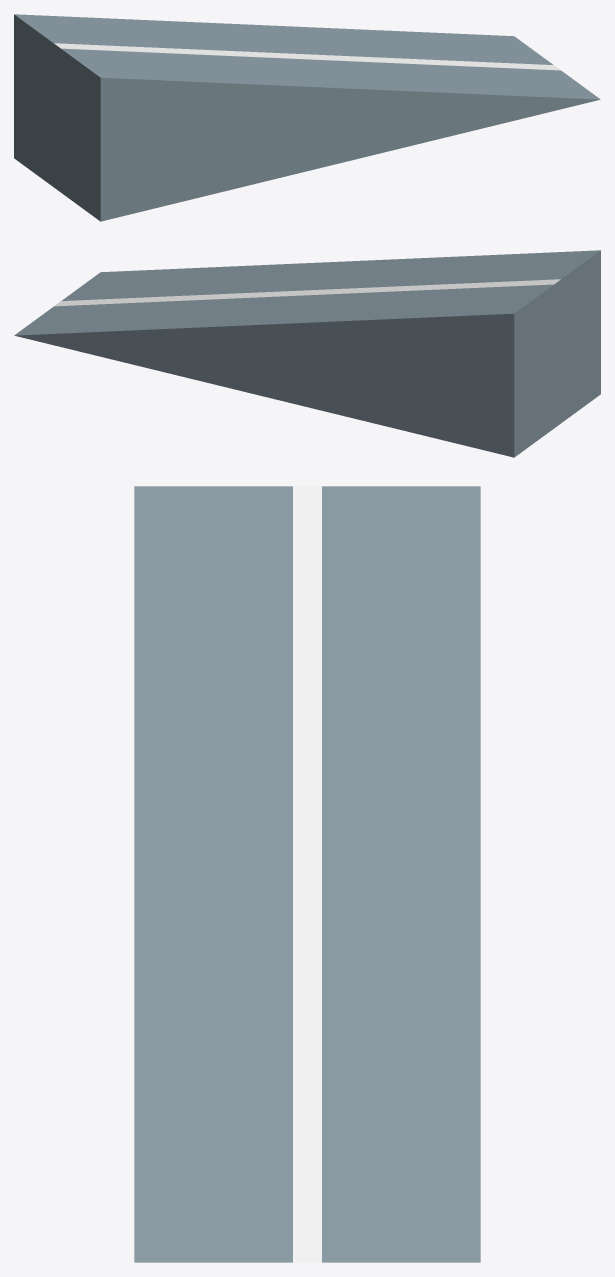
File: SlopeOut.dae
3 renders of one model, top to bottom at view 1: azimuth 30°, elevation 25°; view 2: azimuth 150°, elevation 25°; view 3: azimuth 270°, elevation 25°, orthographic. The views are drawn at different scales.
Visible parts, largest first — view 1: Slope Out; view 2: Slope Out; view 3: Slope Out.
Boxes of the visible parts, left/top/right/bottom form: Slope Out: left=14, top=14, right=600, bottom=221; Slope Out: left=14, top=250, right=600, bottom=457; Slope Out: left=134, top=486, right=480, bottom=1262.
Size of the model in its own units: 2 by 0.6 by 0.5505.
